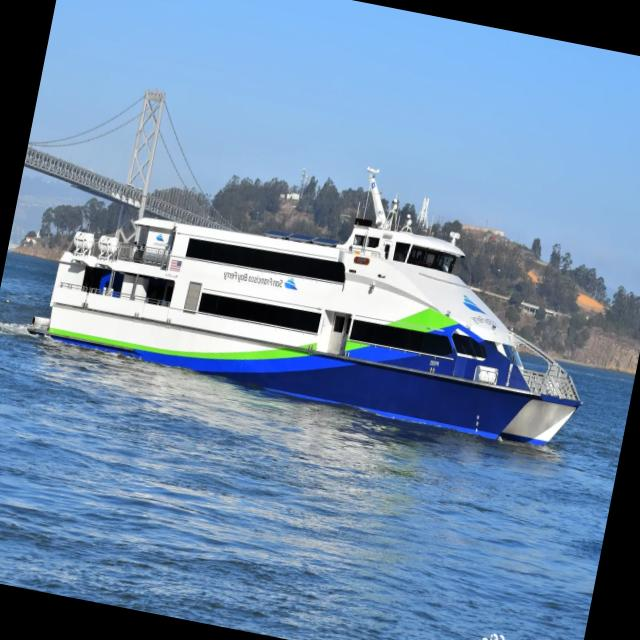Passenger: (35, 168, 580, 445)
